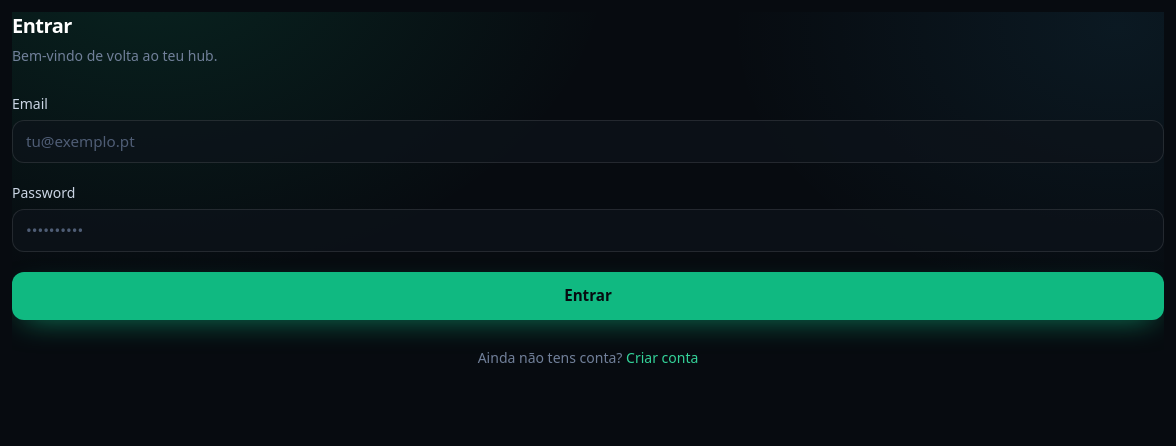
Scenario: LoginPage › credenciaisErradasMostramAMensagemDevolvidaPeloBackend
Type "ana@exemplo.pt" into the field labelled "Email" at (588,141), box [12,120,1164,163]
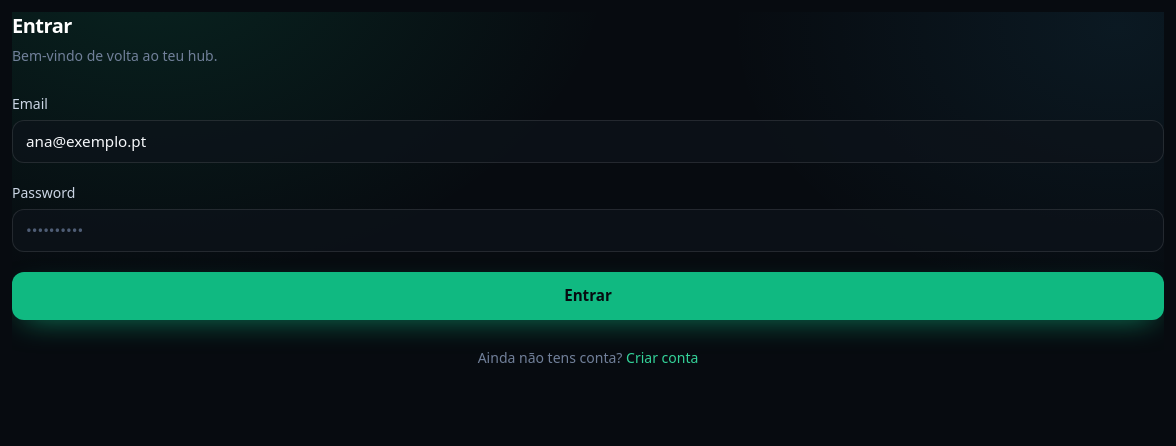
Type "password-errada" into the password field labelled "Password" at (588,230), box [12,209,1164,252]
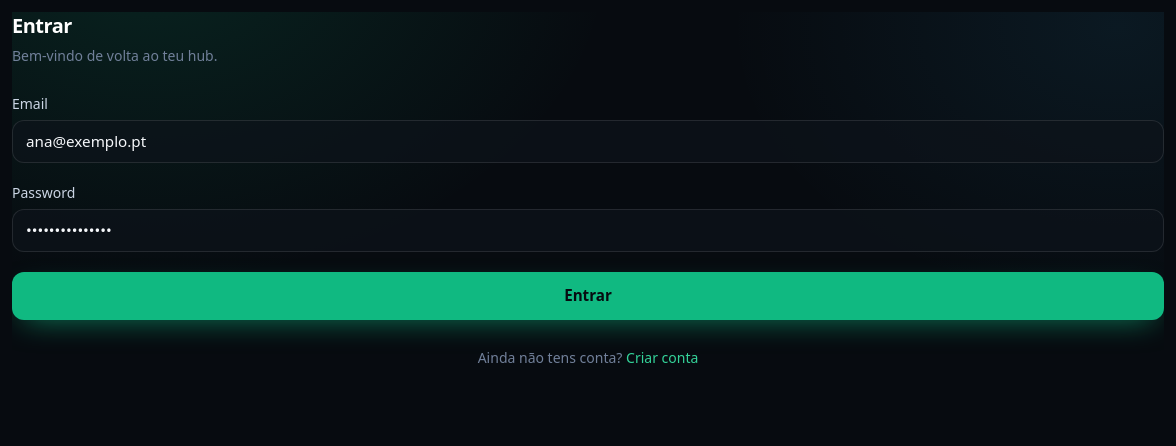
Click the button "Entrar" at (588,296), box [12,272,1164,320]
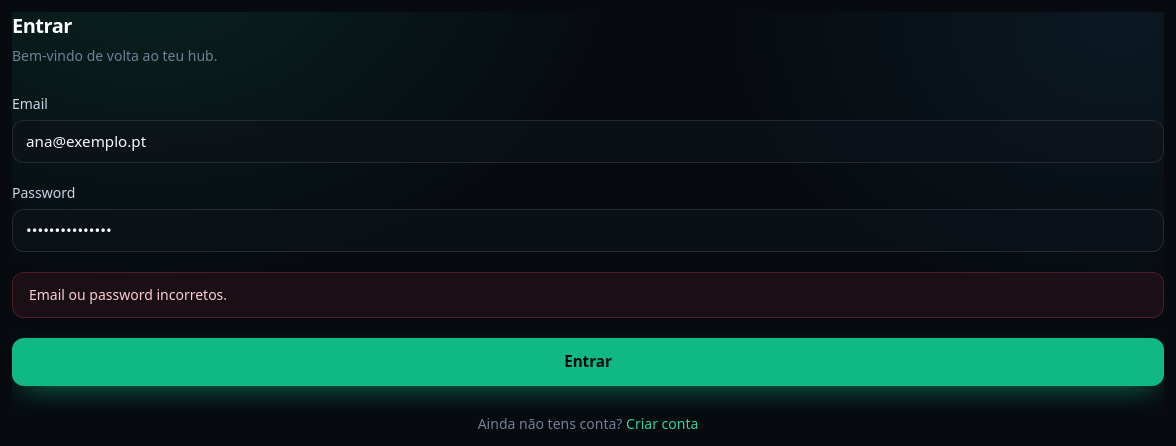
Expected: the message reads "Email ou password incorretos.", [29,285,227,304]
